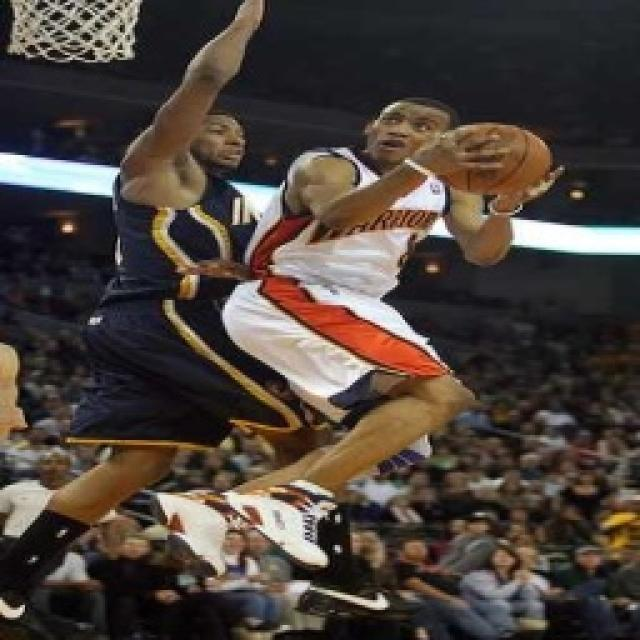rim: (426, 114, 558, 203)
